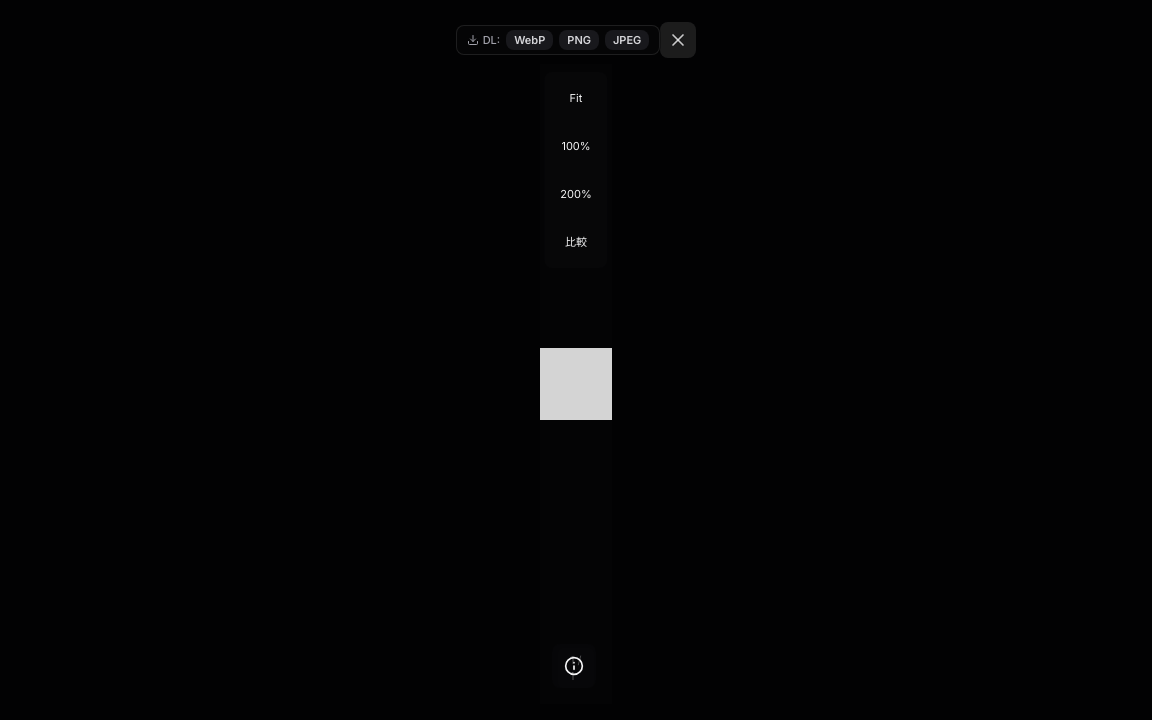
Test: HistoryModalPreview › [REQ-316/AC-1] treats empty saved params as authoritative and offers info even with missing metadata
The image size is (1152, 720).
Click the button named "Show info". click: x=574, y=666
box: [552, 644, 596, 688]
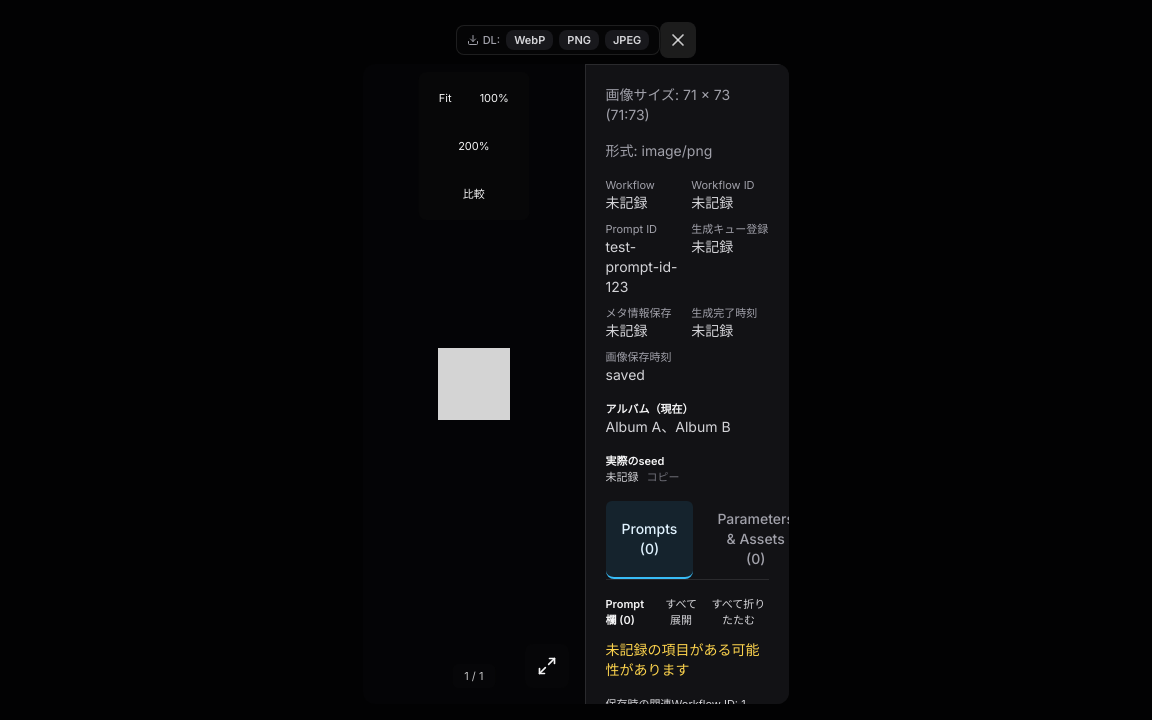
Expected: the text "未記録の項目がある可能性があります" is shown, [606, 640, 769, 680]
Expected: the text "Album A、Album B" is shown, [606, 418, 730, 435]
